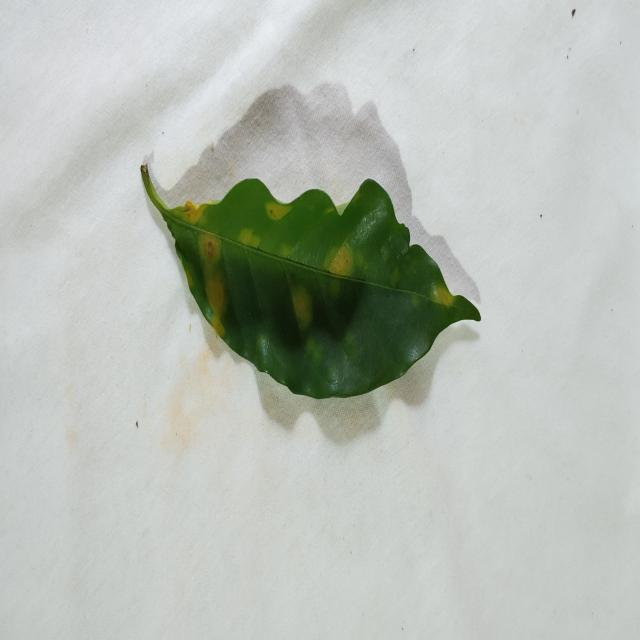Enfermedad-Roya: (139, 164, 482, 402)
